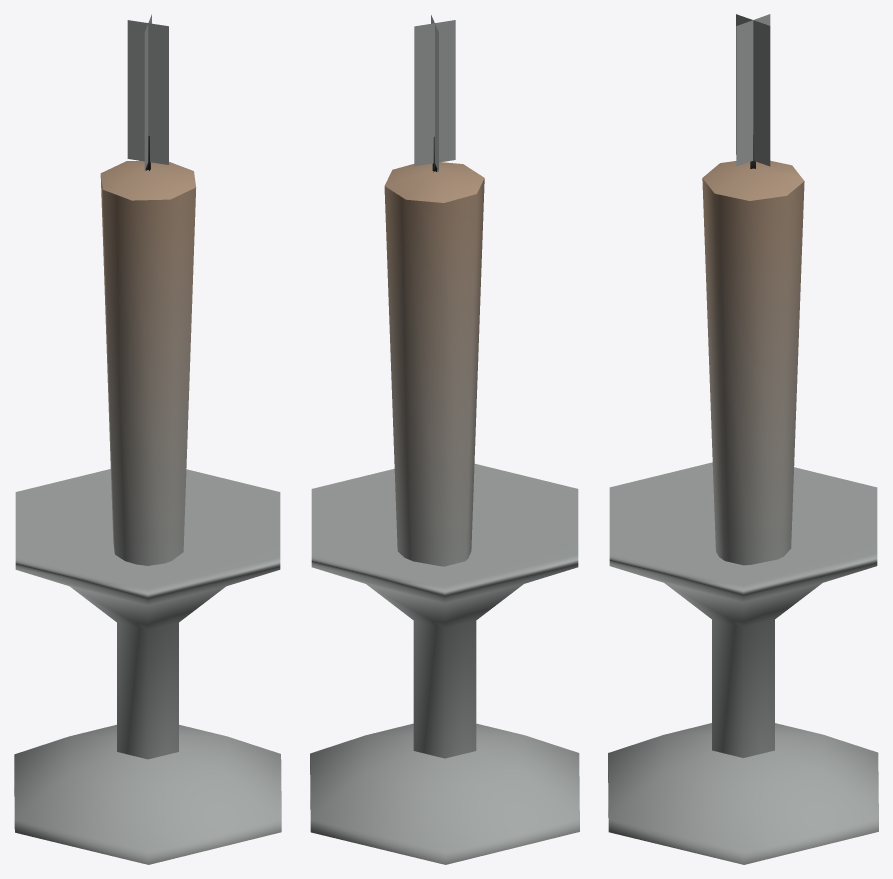
The picture shows the model from 3 angles, left to right: view 1: azimuth 30°, elevation 25°; view 2: azimuth 150°, elevation 25°; view 3: azimuth 270°, elevation 25°; orthographic projection.
Parts seen in each view (by area): view 1: G:\FFXIV-MapTools\exports\e3f1\bg\ex2\02_est_e3\fld\e3f1\bgp (×2); view 2: G:\FFXIV-MapTools\exports\e3f1\bg\ex2\02_est_e3\fld\e3f1\bgp (×2); view 3: G:\FFXIV-MapTools\exports\e3f1\bg\ex2\02_est_e3\fld\e3f1\bgp (×2).
Part boxes in pixels (left/top/right/bottom): G:\FFXIV-MapTools\exports\e3f1\bg\ex2\02_est_e3\fld\e3f1\bgp (×2): left=14, top=14, right=281, bottom=864; G:\FFXIV-MapTools\exports\e3f1\bg\ex2\02_est_e3\fld\e3f1\bgp (×2): left=310, top=15, right=579, bottom=864; G:\FFXIV-MapTools\exports\e3f1\bg\ex2\02_est_e3\fld\e3f1\bgp (×2): left=608, top=14, right=878, bottom=864.
Size of the model in its own units: 0.1512 by 0.418 by 0.1313.
